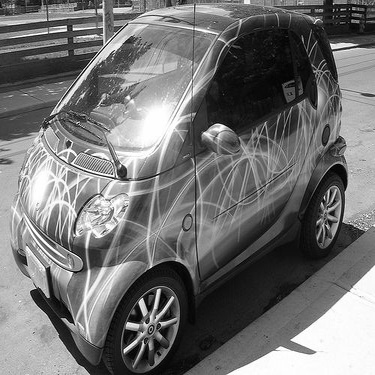car: (10, 8, 351, 367)
